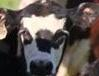muzzles: (26, 57, 54, 75)
